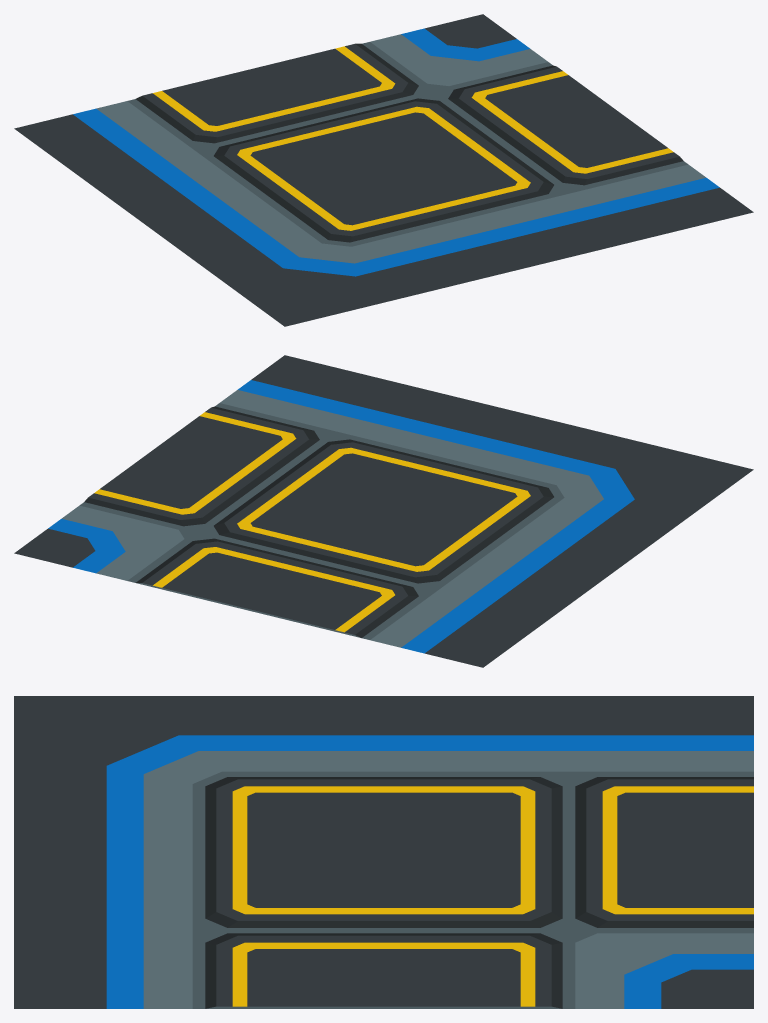
File: Floor_type_C_030.glb
3 renders of one model, top to bottom at view 1: azimuth 30°, elevation 25°; view 2: azimuth 150°, elevation 25°; view 3: azimuth 270°, elevation 25°, orthographic. The views are drawn at different scales.
Parts seen in each view (by area): view 1: Floor_type_C_030; view 2: Floor_type_C_030; view 3: Floor_type_C_030.
Part boxes in pixels (left/top/right/bottom): Floor_type_C_030: left=14, top=14, right=753, bottom=326; Floor_type_C_030: left=14, top=355, right=753, bottom=667; Floor_type_C_030: left=14, top=696, right=753, bottom=1008.
Bounding box in the file's own units: 4 × 0.0134 × 4.
Materials: 2 (2 with a texture image).
